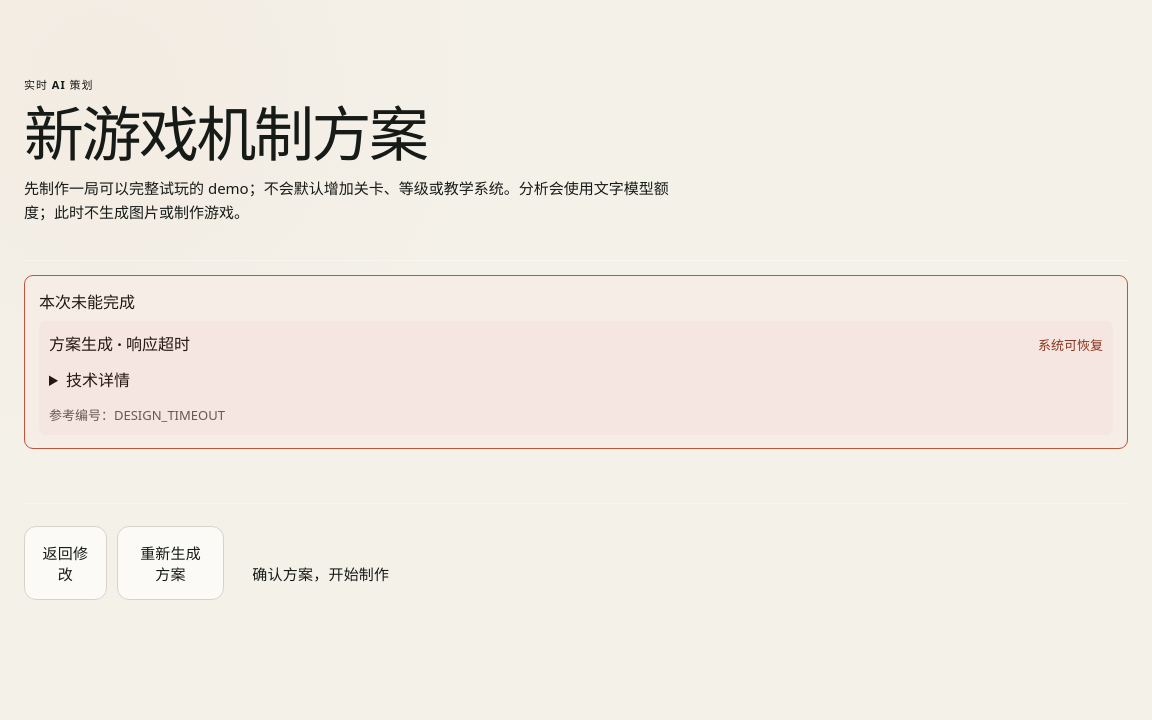
Test case: 失败不回退固定方案，显示安全原因后用户可以重新生成
This screenshot has width=1152, height=720.
Expected: the button "确认方案，开始制作" is disabled, [234,548,1128,600]
Step 1. Click the button "重新生成方案" → click(171, 563), box [117,526,224,600]
(page scrolled)
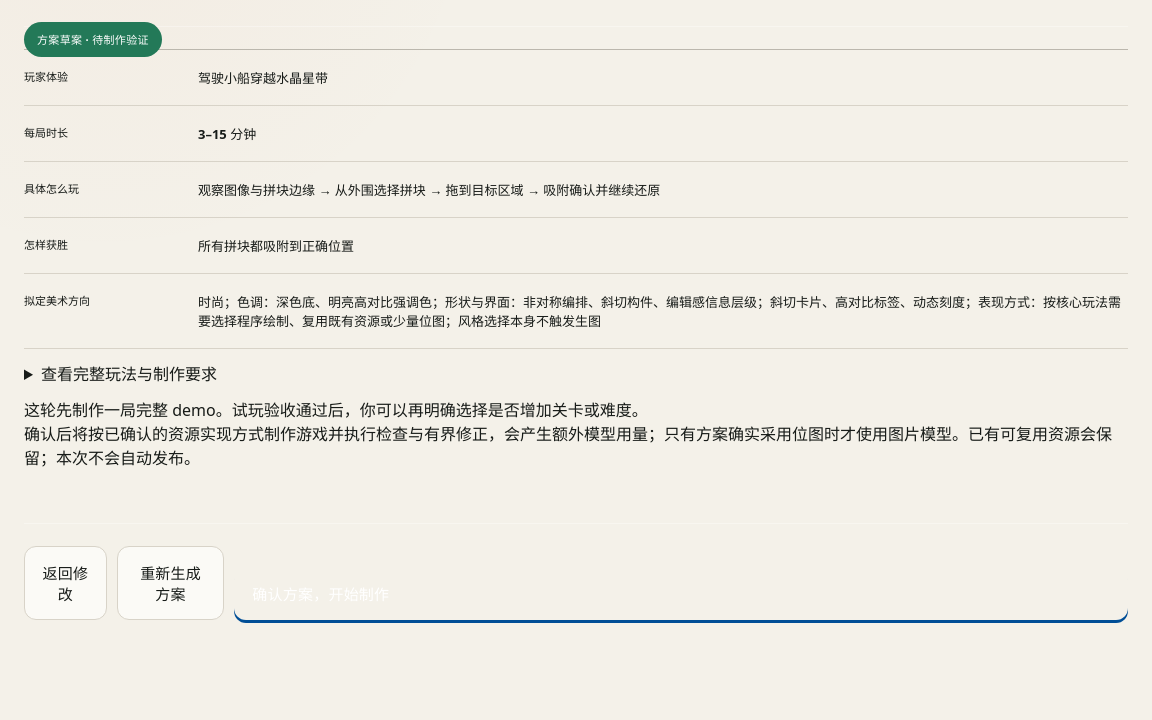
Expected: the button "确认方案，开始制作" is enabled, [234,568,1128,620]
